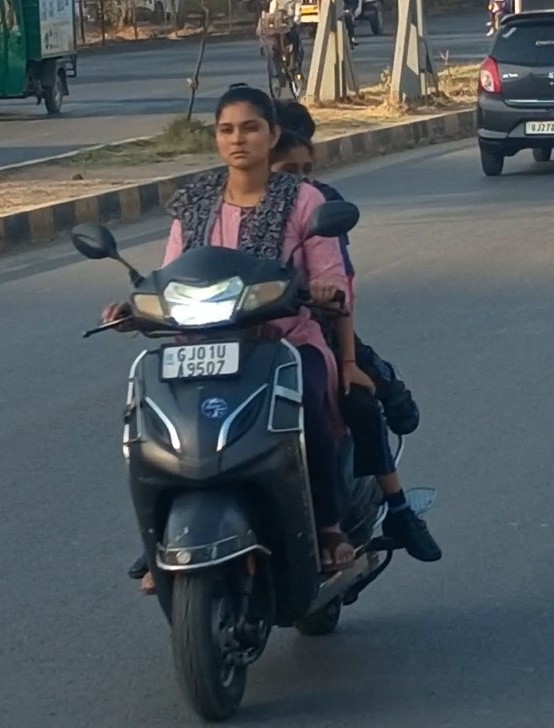BikeWithRider: (60, 76, 451, 727)
NoHelmet: (206, 79, 282, 180), (258, 94, 325, 186)
